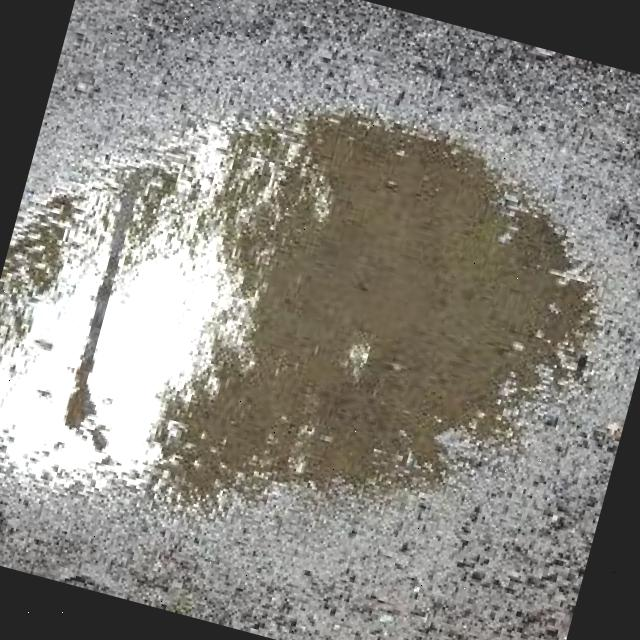stagnation: (0, 23, 628, 612)
